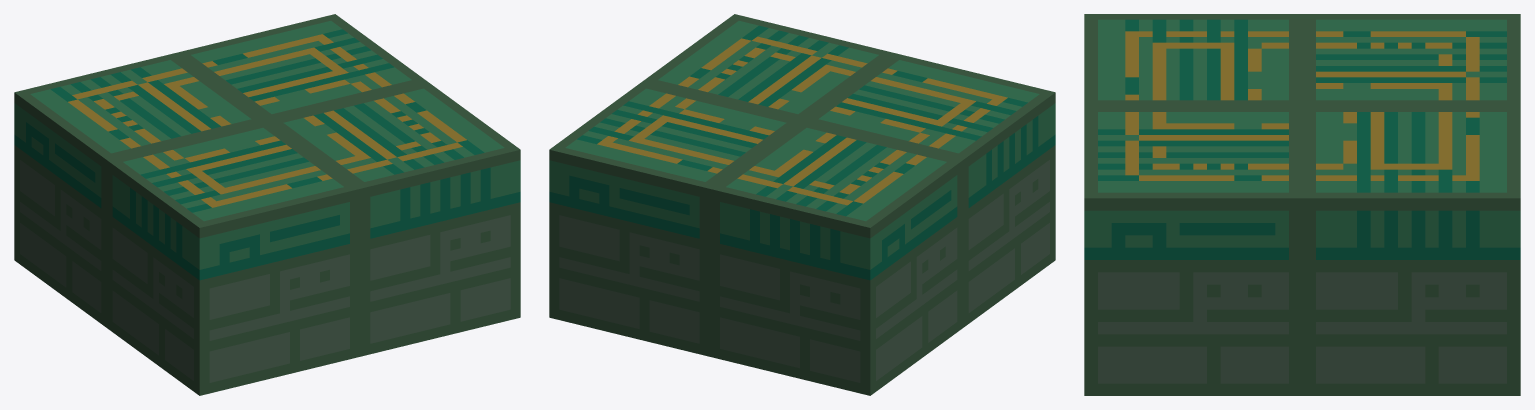
File: m_tiles_2_2x2.fbx
The picture shows the model from 3 angles, left to right: view 1: azimuth 30°, elevation 25°; view 2: azimuth 150°, elevation 25°; view 3: azimuth 270°, elevation 25°; orthographic projection. The views are drawn at different scales.
Visible parts, largest first — view 1: m_tiles_2_2x2; view 2: m_tiles_2_2x2; view 3: m_tiles_2_2x2.
Boxes of the visible parts, x1,y1,x2,y2 form: m_tiles_2_2x2: [14, 14, 520, 395]; m_tiles_2_2x2: [549, 14, 1055, 395]; m_tiles_2_2x2: [1084, 14, 1520, 395].
Bounding box in the file's own units: 3.2 × 1.6 × 3.2.
1 material, 1 textured.
